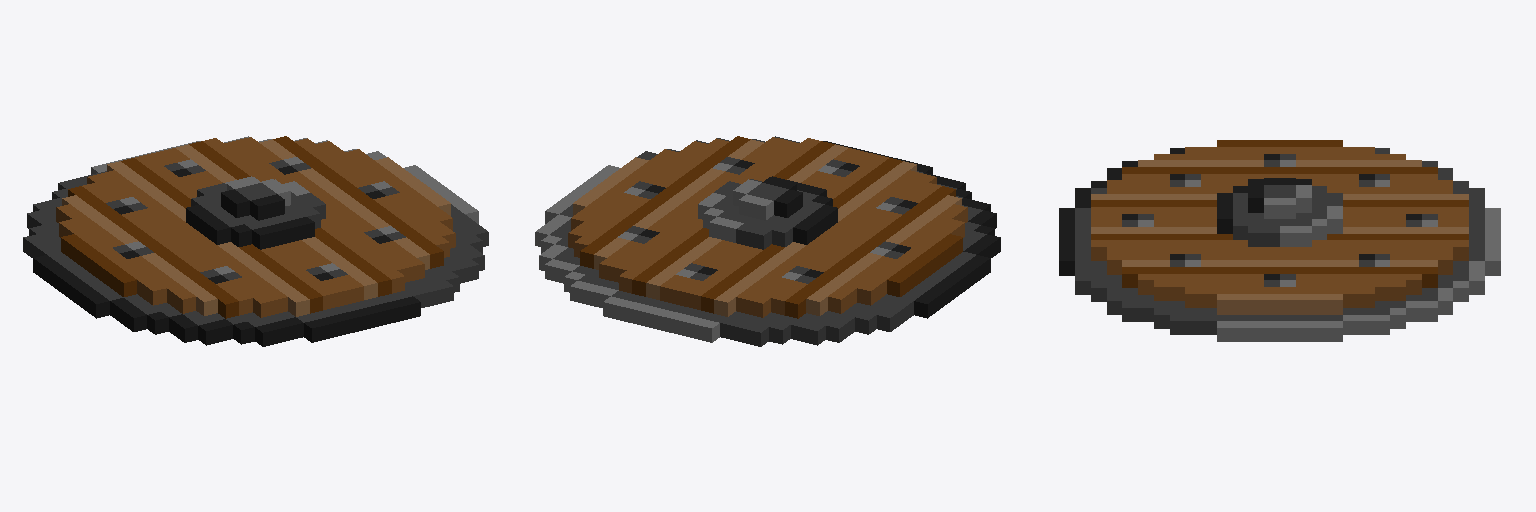
3 views of the same model, side by side, from view 1: azimuth 30°, elevation 25°; view 2: azimuth 150°, elevation 25°; view 3: azimuth 270°, elevation 25° (orthographic).
Parts seen in each view (by area): view 1: object 1; view 2: object 1; view 3: object 1.
Part boxes in pixels (x1,y1,x2,y2): object 1: (23,136,488,346); object 1: (535,136,1000,346); object 1: (1059,140,1500,341).
Size of the model in its own units: 2.8 by 0.9 by 2.8.
Materials: 1 (1 with a texture image).